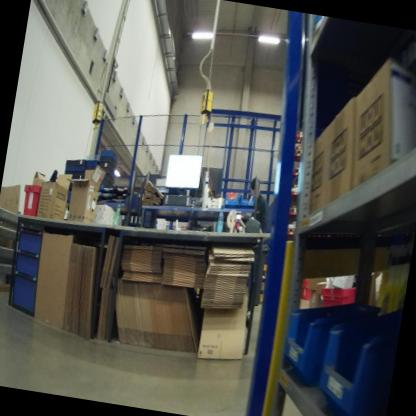pallet: (292, 135, 305, 151), (289, 164, 301, 178), (293, 148, 305, 158)
small_load_carrier: (315, 276, 362, 320), (21, 180, 48, 219), (289, 272, 318, 306)
